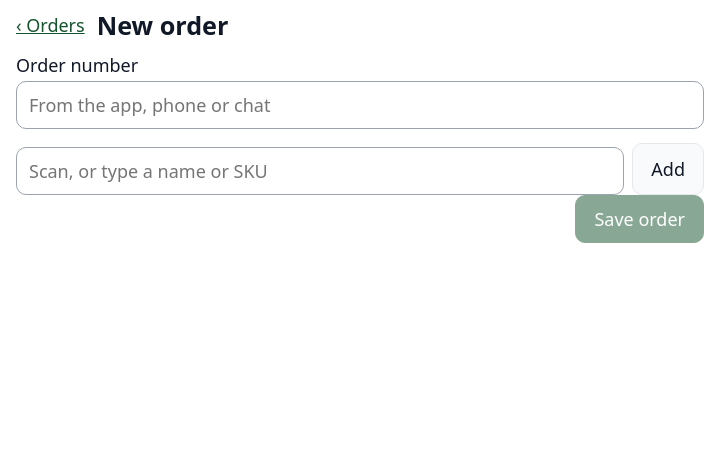
Test case: new order screen › searches by name, warns before saving more than is free, and says what is missing
This screenshot has width=721, height=476.
In the field labelled "Order number": (360, 105) [16, 81, 704, 129], type "PHONE-7"
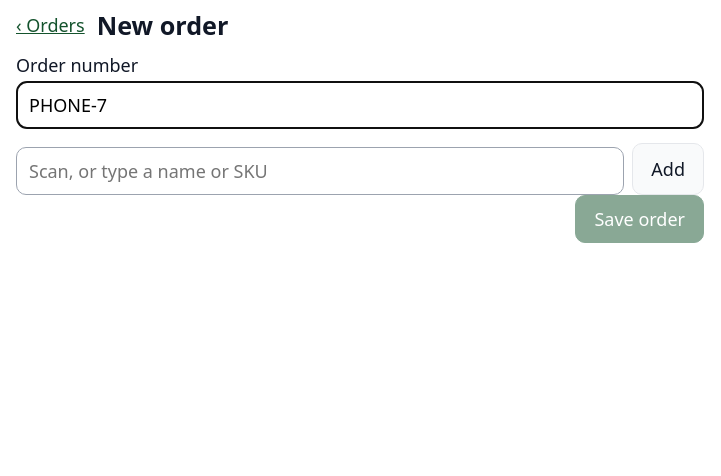
In the field named "Add an item": (320, 171) [16, 147, 624, 195], type "b"
Then press Enter
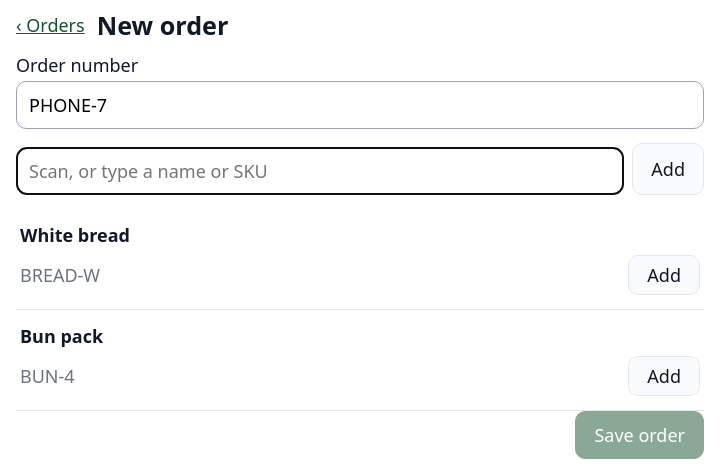
Click the button "Add" in the row of "BREAD-W": (664, 275) [628, 255, 700, 295]
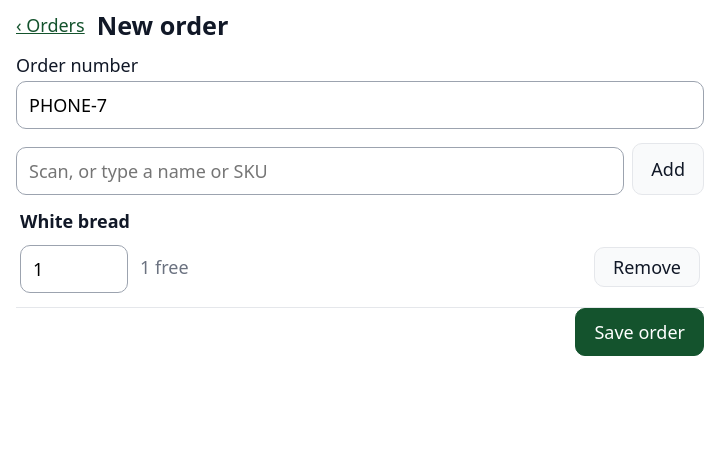
Replace the text in the number field named "How many White bread" with "3": (74, 269) [20, 245, 128, 293]
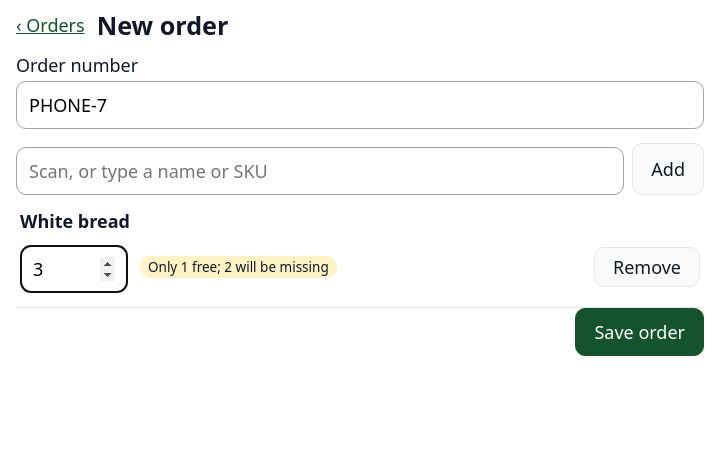
Now the text "Only 1 free; 2 will be missing" is shown, box [140, 256, 337, 278]
Click the button "Save order": (640, 332) [575, 308, 704, 356]
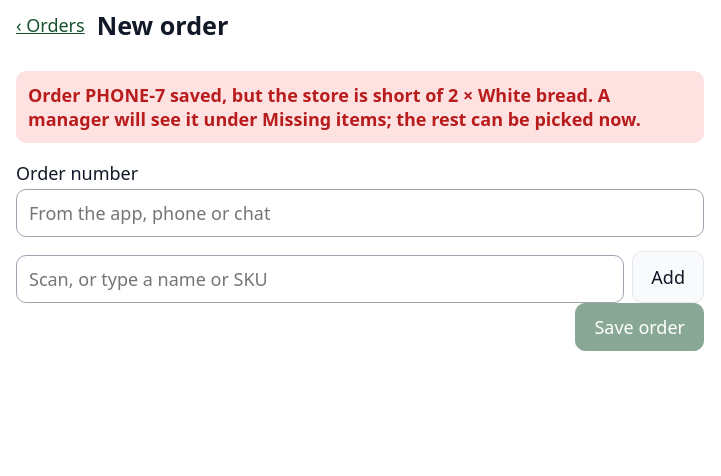
Now the message shows "short of 2 × White bread", box [28, 83, 641, 131]
